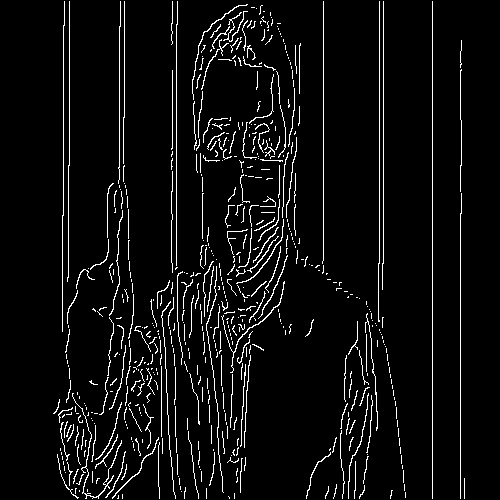mask: (193, 156, 289, 273)
